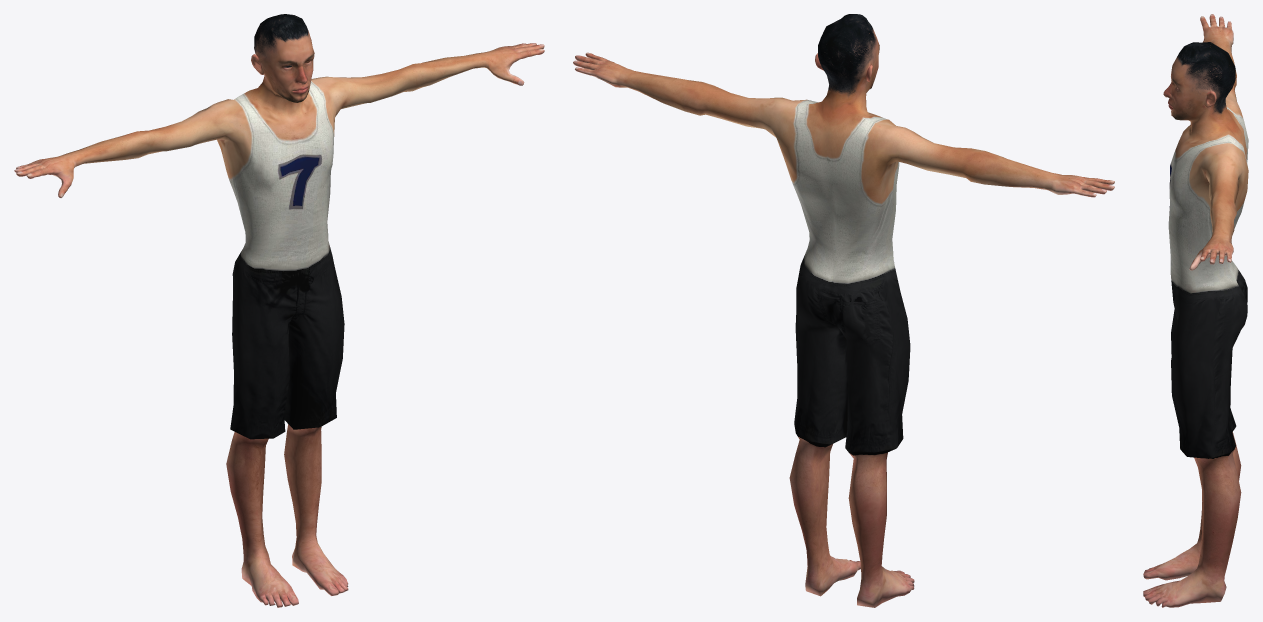
Rendered from animacionprimerpesanaje2.fbx.
The picture shows the model from 3 angles, left to right: view 1: azimuth 30°, elevation 25°; view 2: azimuth 150°, elevation 25°; view 3: azimuth 270°, elevation 25°; orthographic projection. The views are drawn at different scales.
Parts seen in each view (by area): view 1: H_DDS_LowRes; view 2: H_DDS_LowRes; view 3: H_DDS_LowRes.
Part boxes in pixels (x1,y1,x2,y2): H_DDS_LowRes: (14,14,544,607); H_DDS_LowRes: (573,14,1114,607); H_DDS_LowRes: (1143,14,1248,607).
Bounding box in the file's own units: 174 × 178 × 31.27.
